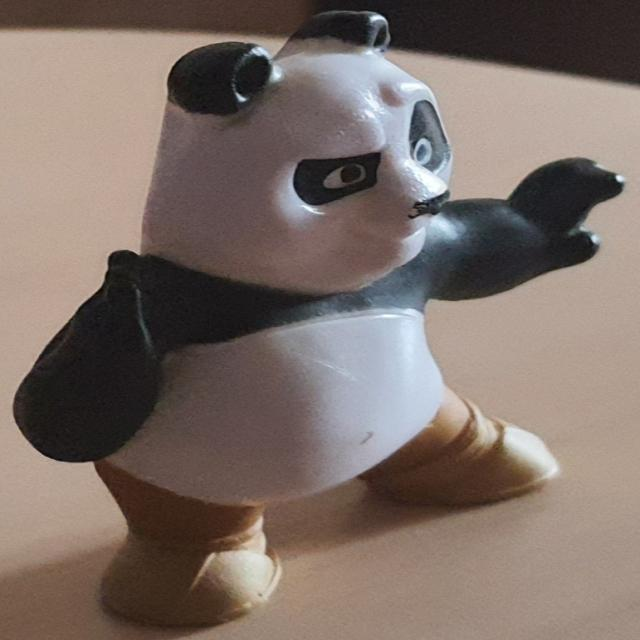Panda: (12, 9, 626, 628)
